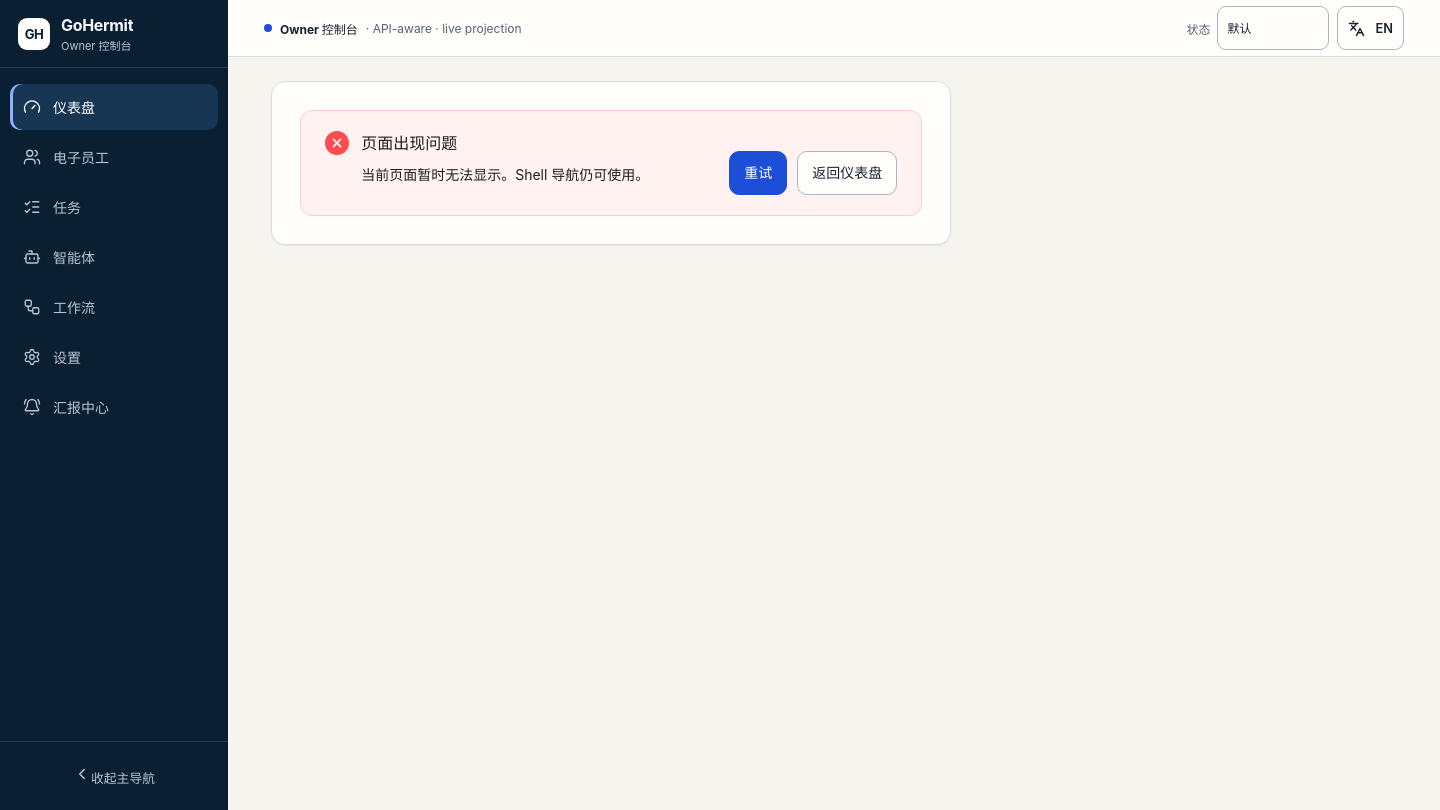
Test case: shared shell components › keeps shell navigation usable when a route boundary fails and retries safely
Expected: the navigation bar "主导航" is shown, [0, 0, 228, 809]
Expected: the message does not show "private response body", [300, 110, 922, 216]
What coordinates should you click on to do the following:
click the button "重试"
I would click on:
 (758, 173)
Its box is [729, 151, 787, 195].
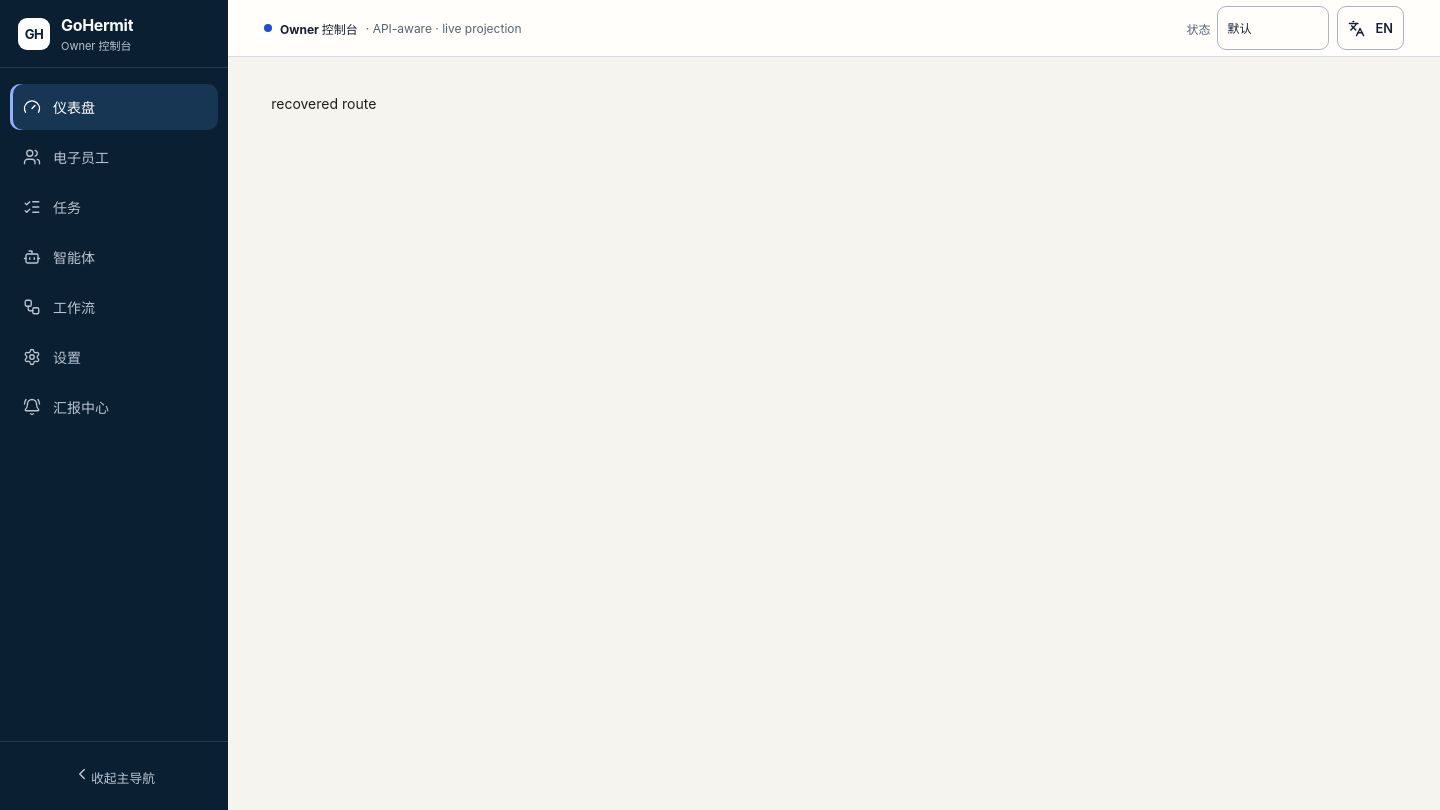
Expected: the text "recovered route" is shown, [271, 95, 376, 112]
